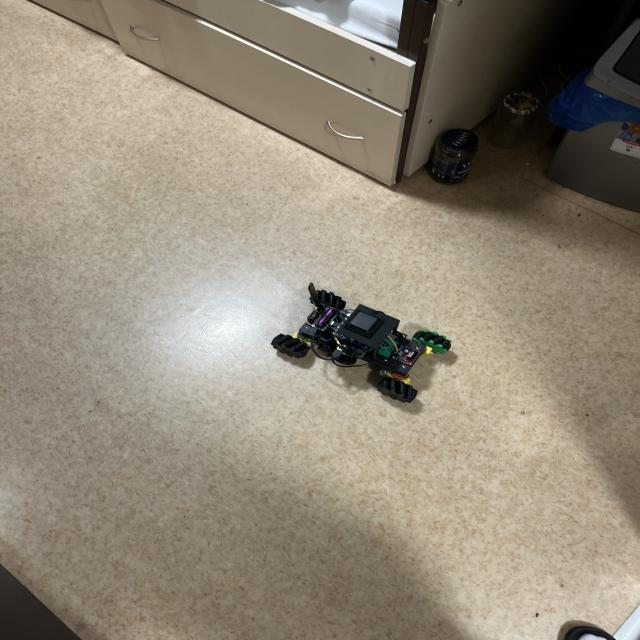robot: (271, 283, 451, 402)
